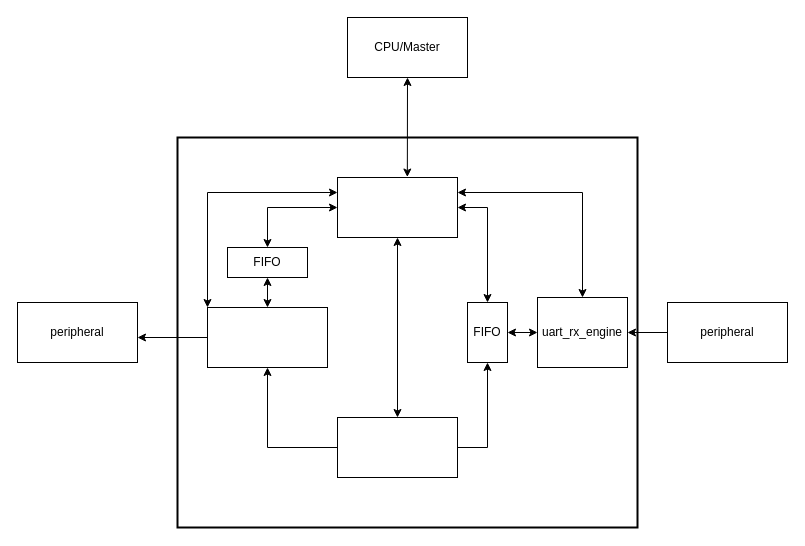
The diagram is 805 pixels wide and 546 high, and some of its shapes have lost their labels. Each missing label, with the centre of its shape:
"baud_gen" goes at (397,447).
"uart_reg_block" goes at (397,207).
"uart_tx_engine" goes at (267,337).
